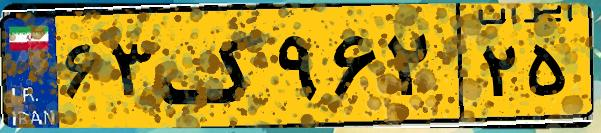2: (385, 28, 445, 110), (475, 38, 525, 113)
3: (110, 28, 158, 98)
5: (525, 38, 570, 115)
6: (330, 28, 385, 110), (57, 26, 110, 100)
9: (270, 28, 330, 110)
ک: (158, 12, 270, 120)
